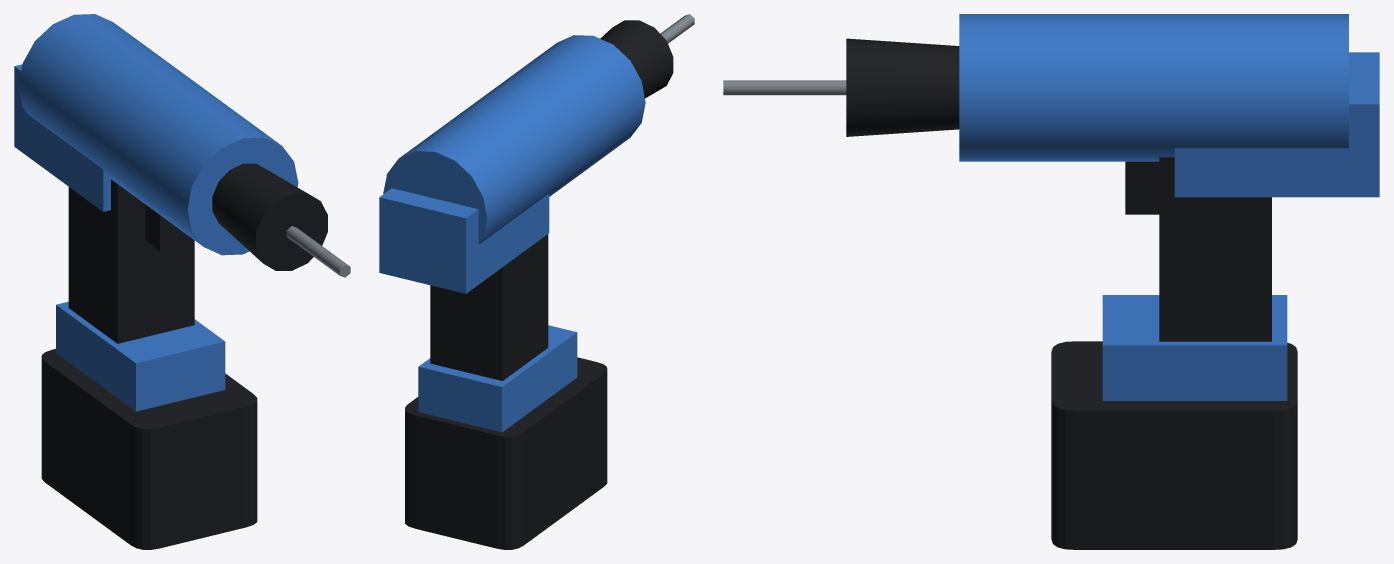
The model's file is toolkit--drill.glb.
3 renders of one model, left to right at view 1: azimuth 30°, elevation 25°; view 2: azimuth 150°, elevation 25°; view 3: azimuth 270°, elevation 25°, orthographic. The views are drawn at different scales.
Parts seen in each view (by area): view 1: drill:shell, trigger; view 2: drill:shell; view 3: drill:shell, trigger.
Boxes of the visible parts, bbox=[...] form: drill:shell: bbox=[14, 14, 350, 549]; trigger: bbox=[145, 204, 181, 250]; drill:shell: bbox=[379, 14, 694, 549]; drill:shell: bbox=[723, 14, 1379, 549]; trigger: bbox=[1125, 161, 1159, 214].
Bounding box in the file's own units: 0.08 × 0.266 × 0.32.
